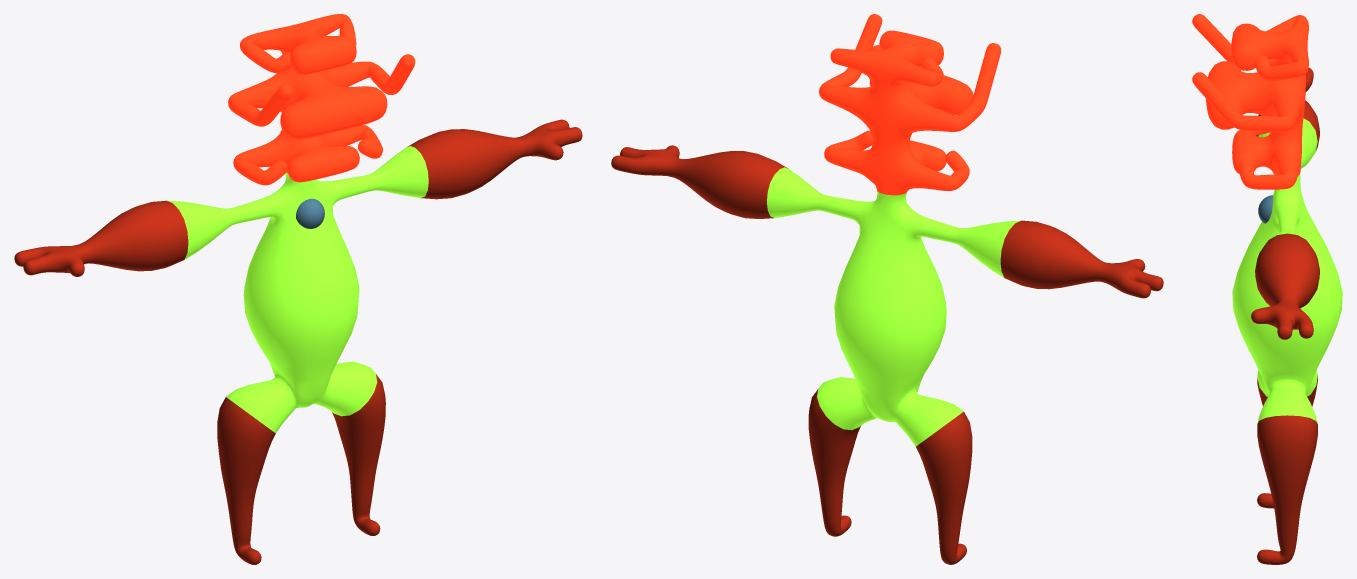
File: enemy4.fbx
3 renders of one model, left to right at view 1: azimuth 30°, elevation 25°; view 2: azimuth 150°, elevation 25°; view 3: azimuth 270°, elevation 25°, orthographic. The views are drawn at different scales.
Visible parts, largest first — view 1: Enemy4; view 2: Enemy4; view 3: Enemy4.
Boxes of the visible parts, x1=… form: Enemy4: x1=14, y1=14, x2=582, y2=564; Enemy4: x1=611, y1=14, x2=1163, y2=564; Enemy4: x1=1192, y1=14, x2=1342, y2=564.
Bounding box in the file's own units: 2.99 × 0.7186 × 2.65.
1 material, 1 textured.
